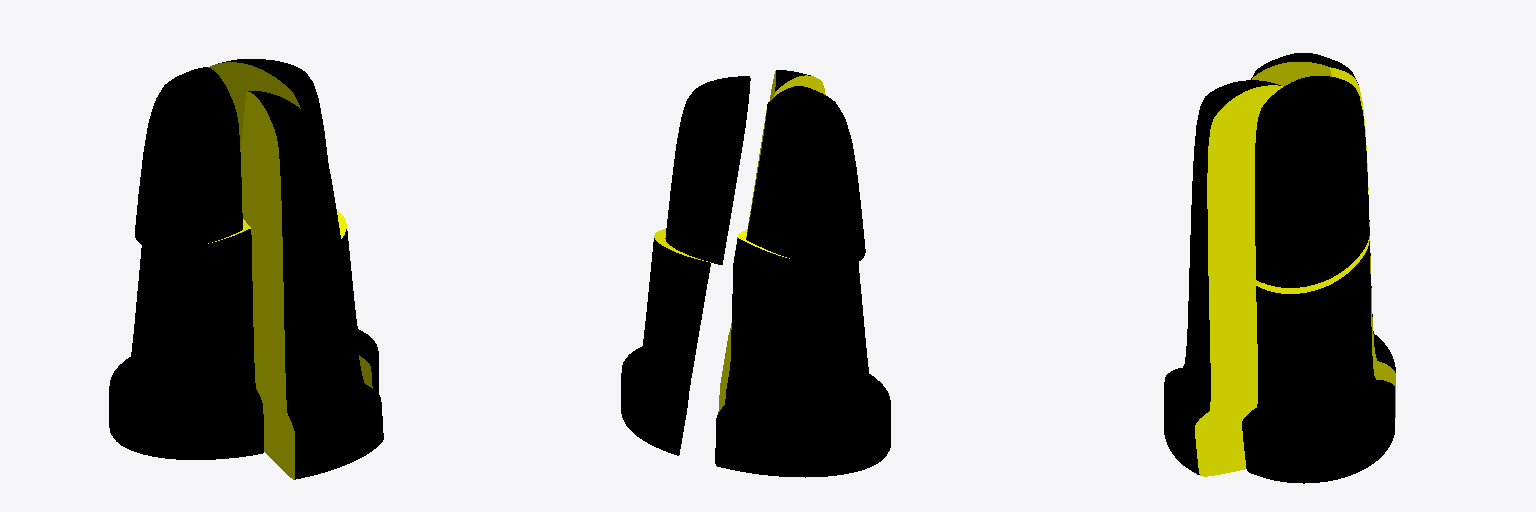
File: alarmarota.obj
3 renders of one model, left to right at view 1: azimuth 30°, elevation 25°; view 2: azimuth 150°, elevation 25°; view 3: azimuth 270°, elevation 25°, orthographic.
Parts seen in each view (by area): view 1: pCylinder2 polySurface8 polySurface1, pCylinder2 polySurface10 polySurface1, pCylinder2 polySurface9 polySurface1, pCylinder2 polySurface11 polySurface1, pCylinder2 polySurface7 polySurface1; view 2: pCylinder2 polySurface10 polySurface1, pCylinder2 polySurface9 polySurface1, pCylinder2 polySurface7 polySurface1, pCylinder2 polySurface11 polySurface1, pCylinder2 polySurface8 polySurface1; view 3: pCylinder2 polySurface8 polySurface1, pCylinder2 polySurface7 polySurface1, pCylinder2 polySurface11 polySurface1, pCylinder2 polySurface9 polySurface1, pCylinder2 polySurface10 polySurface1.
Part boxes in pixels (x1,y1,x2,y2): pCylinder2 polySurface8 polySurface1: (240, 91, 383, 479); pCylinder2 polySurface10 polySurface1: (109, 219, 263, 459); pCylinder2 polySurface9 polySurface1: (135, 67, 242, 248); pCylinder2 polySurface11 polySurface1: (208, 59, 328, 163); pCylinder2 polySurface7 polySurface1: (337, 211, 378, 393); pCylinder2 polySurface10 polySurface1: (715, 230, 890, 477); pCylinder2 polySurface9 polySurface1: (746, 86, 865, 265); pCylinder2 polySurface7 polySurface1: (621, 229, 710, 455); pCylinder2 polySurface11 polySurface1: (665, 76, 750, 264); pCylinder2 polySurface8 polySurface1: (718, 70, 825, 412); pCylinder2 polySurface8 polySurface1: (1164, 80, 1282, 476); pCylinder2 polySurface7 polySurface1: (1242, 239, 1394, 483); pCylinder2 polySurface11 polySurface1: (1255, 76, 1369, 287); pCylinder2 polySurface9 polySurface1: (1251, 53, 1368, 190); pCylinder2 polySurface10 polySurface1: (1368, 194, 1395, 417).
Bounding box in the file's own units: 0.353 × 0.4852 × 0.2821.